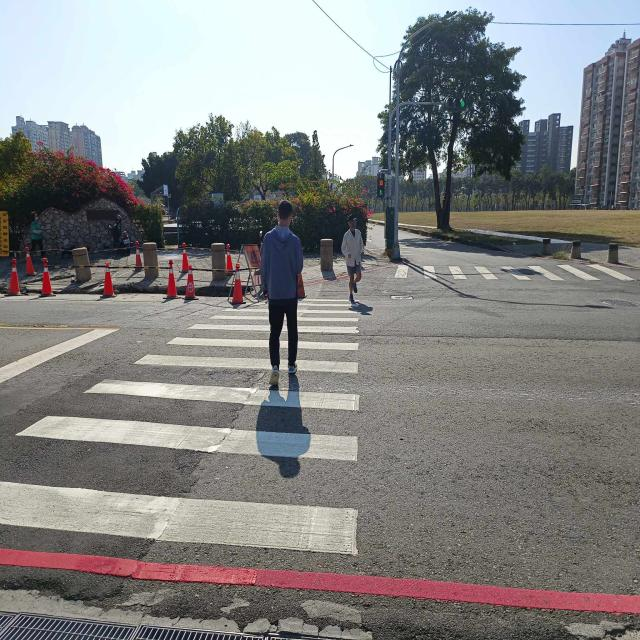person: (261, 200, 304, 387), (341, 215, 364, 305)
zebra crossing: (1, 303, 359, 554), (395, 264, 636, 283)
